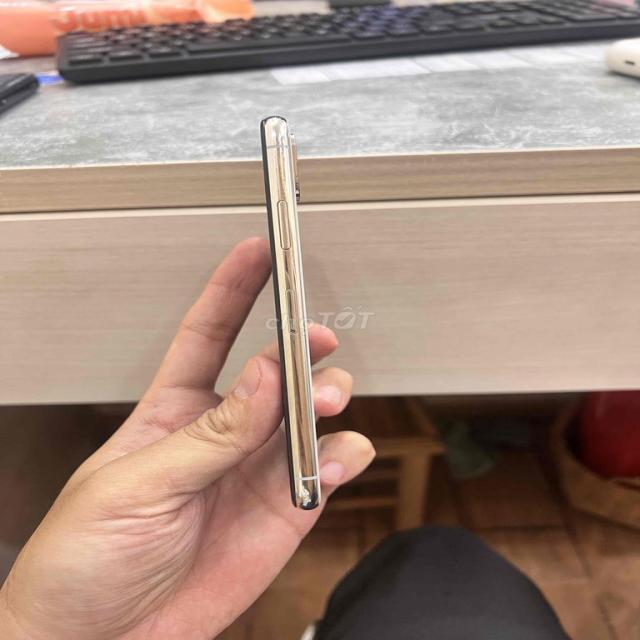gen_x_xs: (261, 116, 320, 510)
